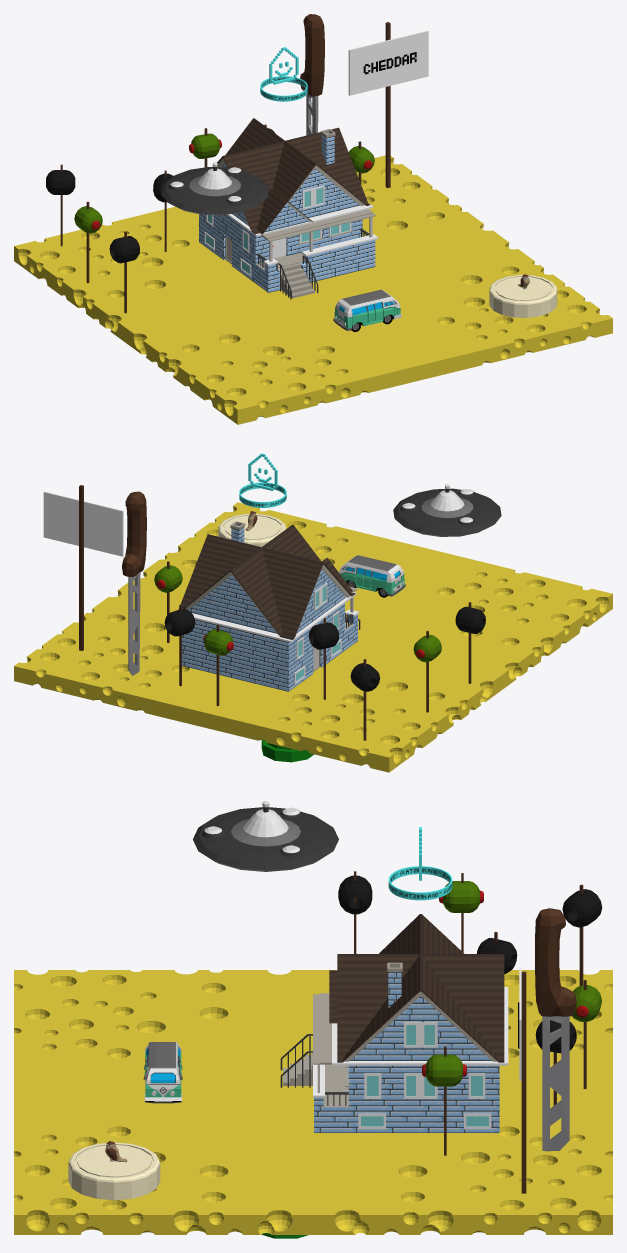
3 views of the same model, one above another, from view 1: azimuth 30°, elevation 25°; view 2: azimuth 150°, elevation 25°; view 3: azimuth 270°, elevation 25° (orthographic). The views are drawn at different scales.
Visible parts, largest first — view 1: Cube.022, Cube.547, Cube.023, OBJRANDOM_UFO, Cylinder.016, Cube.024, VEHICLES_VAN, TYPE_PREMIUM, Sphere.017, Sphere.016, Sphere.018, Sphere.022 (+1 smaller); view 2: Cube.022, Cube.547, Cube.023, OBJRANDOM_UFO, Cube.024, VEHICLES_VAN, Cylinder.016, TYPE_PREMIUM, Sphere.017, Sphere.022, Sphere.016, Sphere.020 (+4 smaller); view 3: Cube.022, Cube.547, OBJRANDOM_UFO, Cube.024, Cylinder.016, VEHICLES_VAN, Cube.023, Sphere.016, Sphere.019, TYPE_PREMIUM, Sphere.017, Sphere.018 (+3 smaller).
Part boxes in pixels (x1,y1,x2,y2): Cube.022: (14,155,612,424); Cube.547: (199,118,378,299); Cube.023: (348,22,428,188); OBJRANDOM_UFO: (161,162,269,215); Cylinder.016: (489,275,557,317); Cube.024: (300,14,324,135); VEHICLES_VAN: (333,289,401,331); TYPE_PREMIUM: (260,47,307,101); Sphere.017: (109,231,139,313); Sphere.016: (46,164,75,246); Sphere.018: (74,201,102,283); Sphere.022: (189,128,221,167); Cube.022: (14,502,612,772); Cube.547: (177,521,360,691); Cube.023: (43,485,123,650); OBJRANDOM_UFO: (393,484,501,536); Cube.024: (122,491,146,675); VEHICLES_VAN: (339,555,405,597); Cylinder.016: (218,513,285,546); TYPE_PREMIUM: (239,453,286,507); Sphere.017: (455,602,485,683); Sphere.022: (203,624,233,705); Sphere.016: (350,659,379,740); Sphere.020: (309,618,339,699); Cube.022: (14,970,612,1234); Cube.547: (280,914,508,1132); OBJRANDOM_UFO: (193,801,338,871); Cube.024: (535,908,576,1151); Cylinder.016: (68,1142,160,1200); VEHICLES_VAN: (143,1042,182,1103); Cube.023: (518,968,526,1193); Sphere.016: (562,884,602,985); Sphere.019: (422,1046,466,1155); TYPE_PREMIUM: (388,827,452,900); Sphere.017: (338,871,372,953); Sphere.018: (439,873,483,952).
Bounding box in the file's own units: 3917 × 2807 × 4000.
38 materials, 5 textured.
